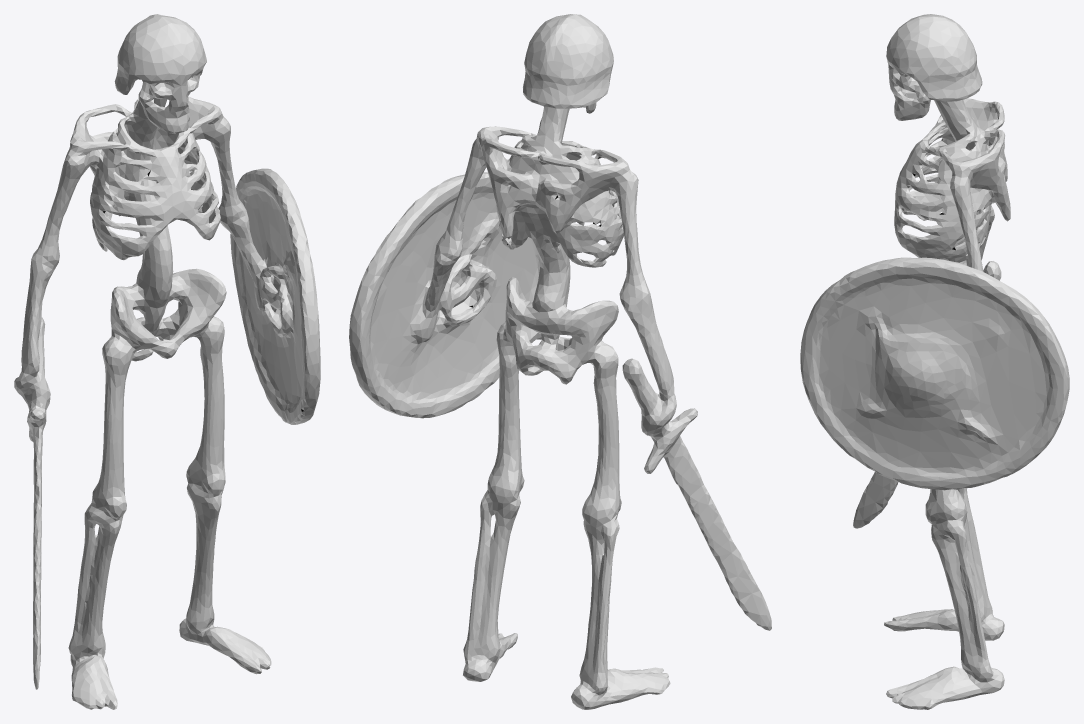
File: enemy_skel_melee2.glb
3 views of the same model, side by side, from view 1: azimuth 30°, elevation 25°; view 2: azimuth 150°, elevation 25°; view 3: azimuth 270°, elevation 25° (orthographic). The views are drawn at different scales.
Visible parts, largest first — view 1: Low; view 2: Low; view 3: Low.
Part boxes in pixels (x1,y1,x2,y2): Low: (14,14,320,709); Low: (349,14,771,709); Low: (800,14,1069,709).
Bounding box in the file's own units: 0.9971 × 1.98 × 0.7488.
1 material, 1 textured.
